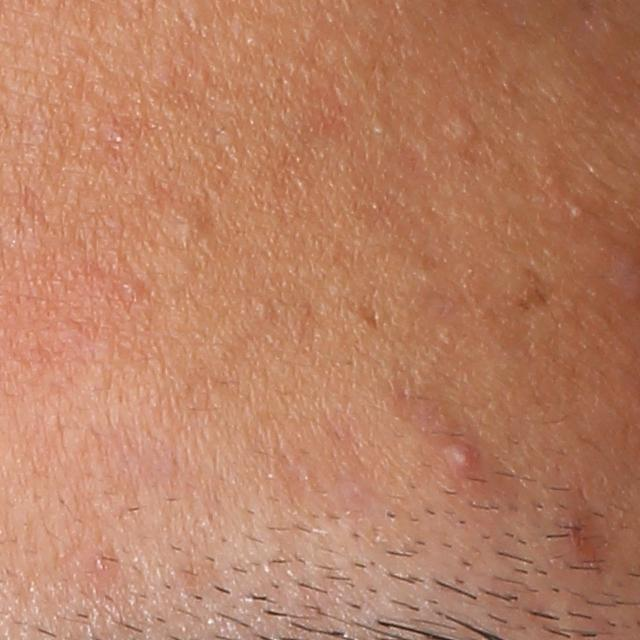comedo: (166, 198, 218, 255), (443, 106, 486, 147), (253, 300, 277, 322), (569, 200, 586, 222), (370, 116, 386, 135)
papule: (443, 437, 482, 480)
